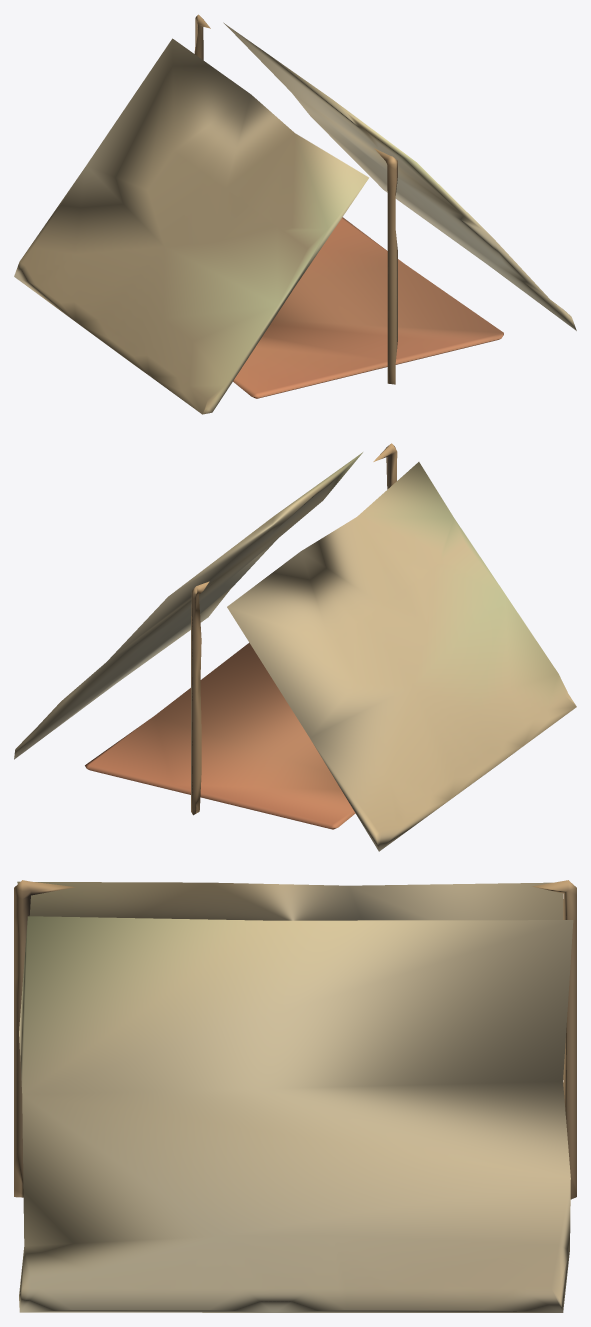
The model's file is env_p_tent.glb.
3 views of the same model, one above another, from view 1: azimuth 30°, elevation 25°; view 2: azimuth 150°, elevation 25°; view 3: azimuth 270°, elevation 25° (orthographic). The views are drawn at different scales.
Visible parts, largest first — view 1: geometry_0; view 2: geometry_0; view 3: geometry_0.
Part boxes in pixels (x1,y1,x2,y2): geometry_0: (14, 14, 576, 414); geometry_0: (14, 443, 576, 851); geometry_0: (14, 880, 576, 1312).
Size of the model in its own units: 3.56 by 2.05 by 3.3.
